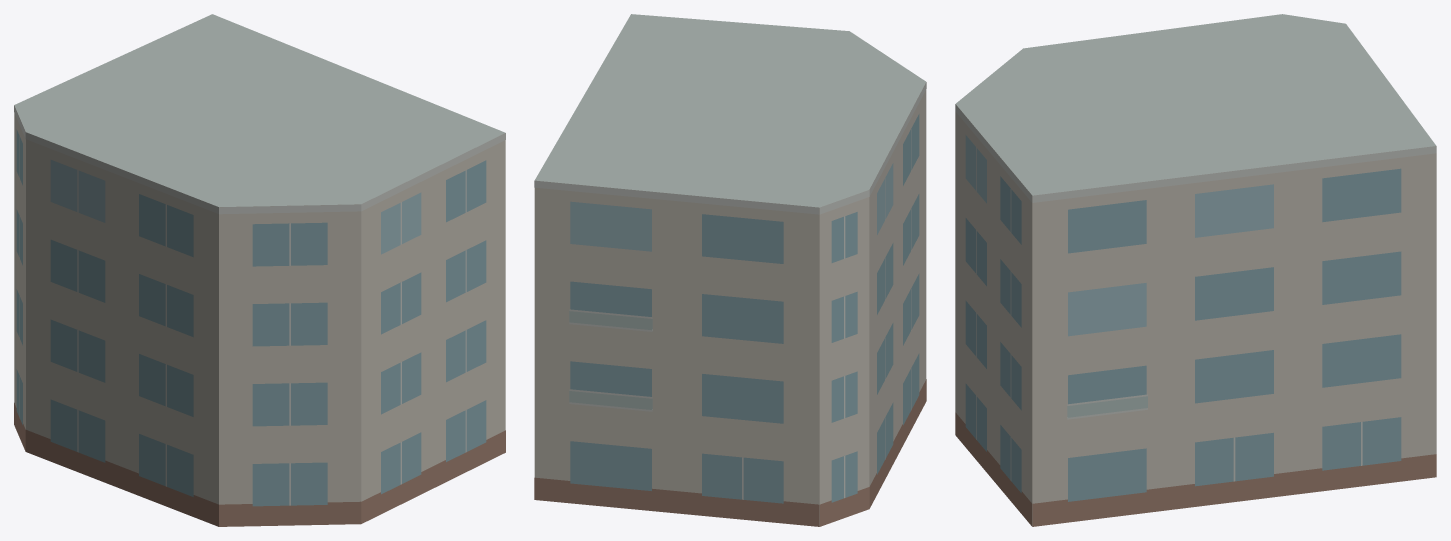
The model's file is survey-upis-32612712.glb.
3 views of the same model, side by side, from view 1: azimuth 30°, elevation 25°; view 2: azimuth 150°, elevation 25°; view 3: azimuth 270°, elevation 25° (orthographic). The views are drawn at different scales.
Visible parts, largest first — view 1: survey-upis-32612712.tmp; view 2: survey-upis-32612712.tmp; view 3: survey-upis-32612712.tmp.
Boxes of the visible parts, x1=… form: survey-upis-32612712.tmp: x1=14, y1=14, x2=505, y2=526; survey-upis-32612712.tmp: x1=534, y1=14, x2=926, y2=526; survey-upis-32612712.tmp: x1=955, y1=14, x2=1436, y2=526.
Size of the model in its own units: 12.95 by 11 by 14.49.
